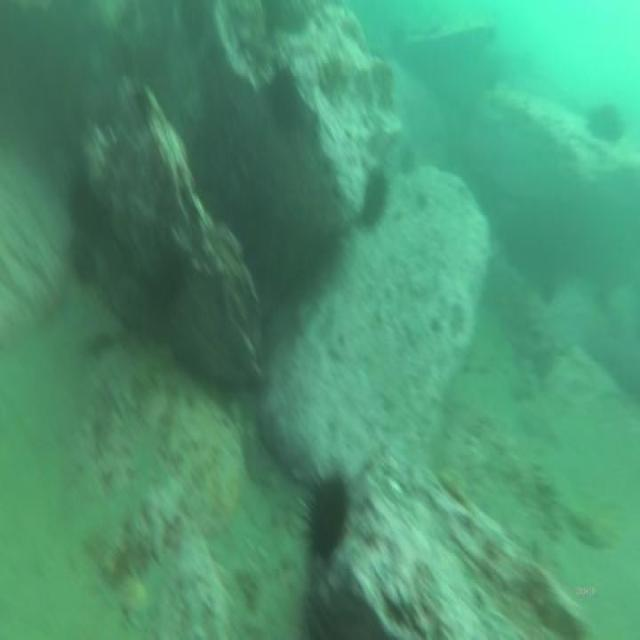echinus: (299, 456, 353, 570), (270, 62, 302, 131), (588, 93, 626, 150), (364, 160, 388, 222)
